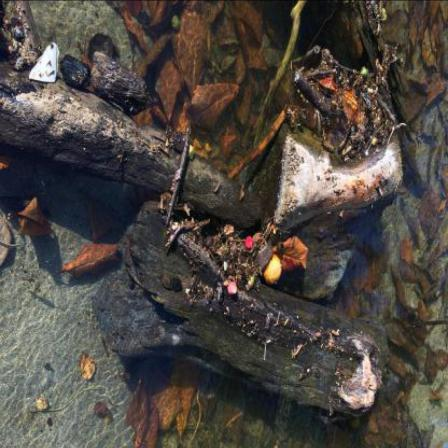Bottle cap: (229, 282, 238, 296), (245, 237, 254, 249)
Other plastic: (30, 43, 60, 83), (363, 93, 371, 106)
